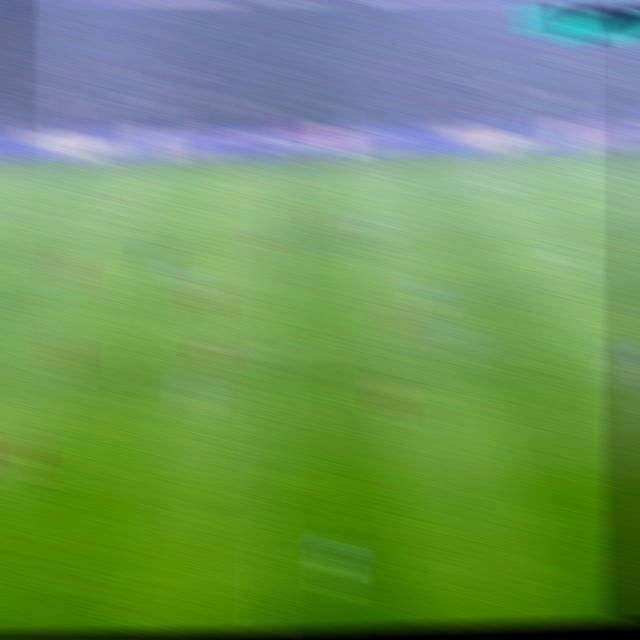halfcircle_bottom: (257, 337, 296, 370)
halfcircle_top: (262, 235, 296, 262)
midline_top_intersection: (263, 153, 294, 177)
